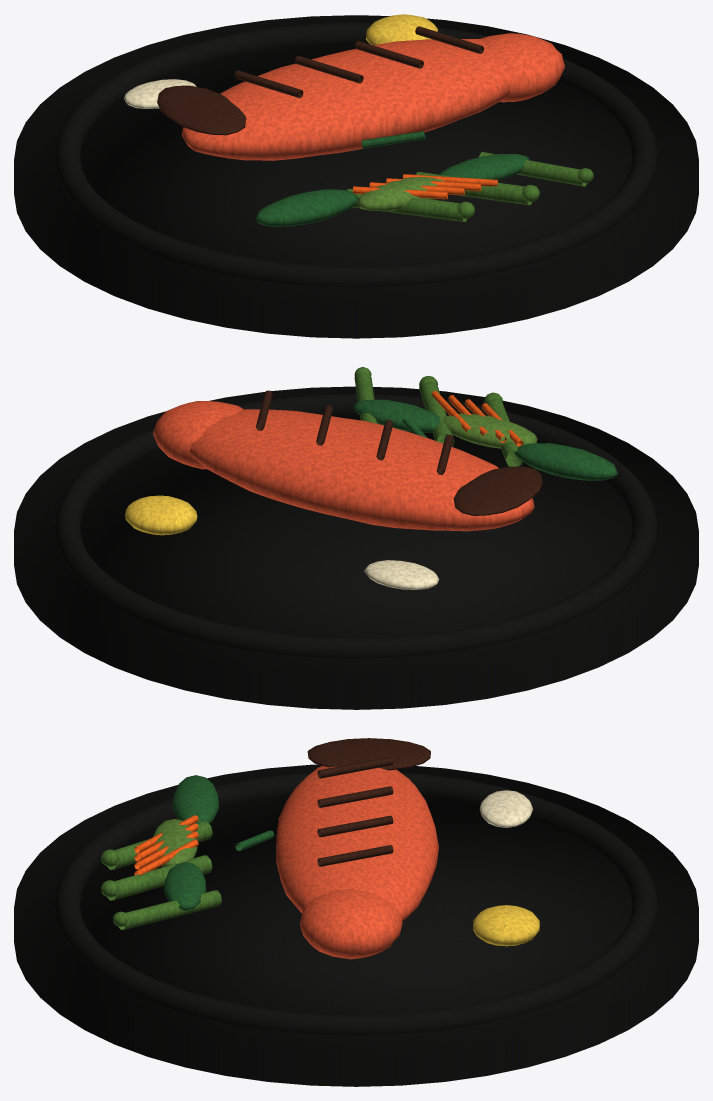
File: pesca.glb
3 renders of one model, top to bottom at view 1: azimuth 30°, elevation 25°; view 2: azimuth 150°, elevation 25°; view 3: azimuth 270°, elevation 25°, orthographic.
Visible parts, largest first — view 1: darkPlate, fish, sear, leaf, asparagus, leafLight, pumpkin, lemon, cream; view 2: darkPlate, fish, sear, leaf, asparagus, lemon, leafLight, cream, pumpkin; view 3: darkPlate, fish, sear, asparagus, leaf, lemon, cream, pumpkin, leafLight.
Boxes of the visible parts, left/top/right/bottom form: darkPlate: left=14, top=15, right=698, bottom=338; fish: left=181, top=33, right=564, bottom=160; sear: left=157, top=26, right=484, bottom=135; leaf: left=256, top=131, right=529, bottom=226; asparagus: left=347, top=152, right=593, bottom=221; leafLight: left=357, top=175, right=444, bottom=210; pumpkin: left=353, top=174, right=498, bottom=199; lemon: left=366, top=14, right=437, bottom=45; cream: left=124, top=79, right=196, bottom=108; darkPlate: left=14, top=386, right=698, bottom=709; fish: left=153, top=401, right=534, bottom=531; sear: left=256, top=390, right=542, bottom=515; leaf: left=353, top=399, right=617, bottom=480; asparagus: left=354, top=367, right=522, bottom=466; lemon: left=125, top=495, right=197, bottom=535; leafLight: left=443, top=413, right=537, bottom=448; cream: left=364, top=560, right=439, bottom=589; pumpkin: left=431, top=391, right=523, bottom=446; darkPlate: left=14, top=764, right=698, bottom=1086; fish: left=276, top=766, right=438, bottom=959; sear: left=307, top=738, right=430, bottom=866; asparagus: left=101, top=821, right=221, bottom=929; leaf: left=164, top=775, right=274, bottom=910; lemon: left=473, top=905, right=539, bottom=946; cream: left=480, top=790, right=532, bottom=827; pumpkin: left=134, top=815, right=198, bottom=875; leafLight: left=152, top=819, right=197, bottom=866.
Size of the model in its own units: 0.64 by 0.139 by 0.64.
9 materials, 9 textured.
